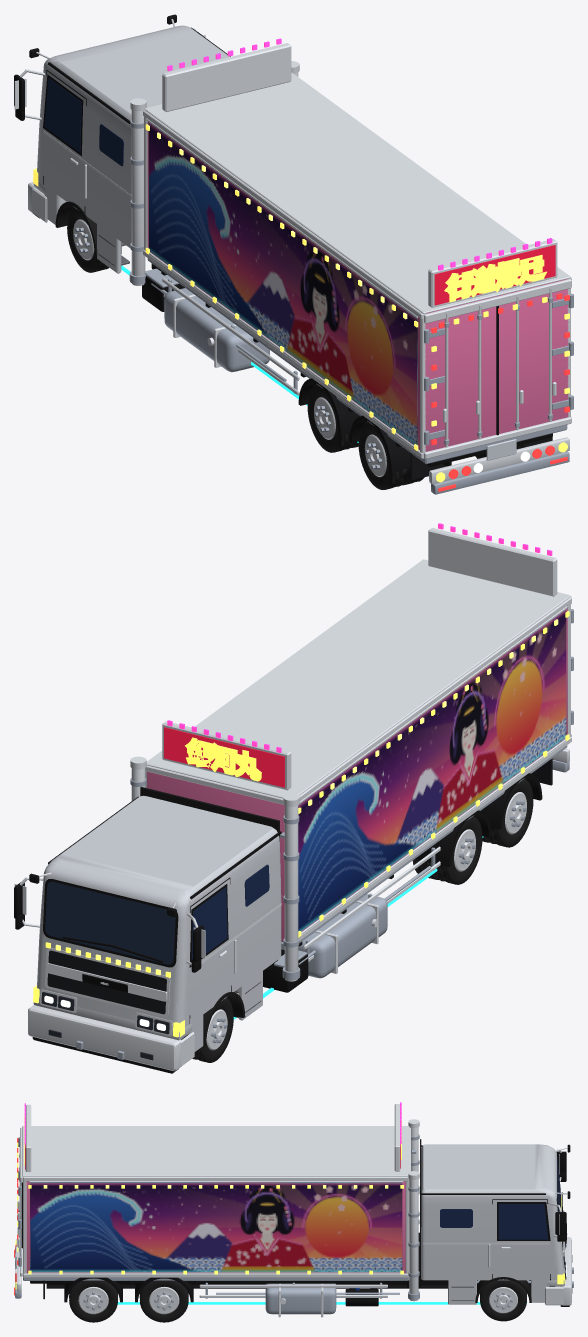
Rendered from dekotora_truck_pinkbox.glb.
3 views of the same model, one above another, from view 1: azimuth 30°, elevation 25°; view 2: azimuth 150°, elevation 25°; view 3: azimuth 270°, elevation 25° (orthographic). The views are drawn at different scales.
Parts seen in each view (by area): view 1: truck_chrome, truck_mural, truck_paint_white_panel, truck_box_pink, truck_steel, truck_plastic_black, truck_lamp_amber, truck_glass, wheel_r_L_1.5_1.06, wheel_r_L_3.0_1.06, truck_andon_panel, wheel_f_L (+3 smaller); view 2: truck_chrome, truck_mural, truck_paint_white_panel, truck_plastic_black, truck_glass_wind, truck_steel, truck_box_pink, truck_vent_slots, truck_lamp_amber, truck_andon_panel, truck_glass, truck_plastic_trim (+5 smaller); view 3: truck_mural, truck_chrome, truck_paint_white_panel, truck_plastic_black, truck_steel, truck_glass, wheel_r_R_3.0_1.06, wheel_r_R_1.5_1.06, wheel_f_R, truck_box_pink, truck_lamp_amber, truck_plastic_trim (+1 smaller).
Boxes of the visible parts, <box> form: truck_chrome: <box>14,19,571,483</box>; truck_mural: <box>149,122,417,445</box>; truck_paint_white_panel: <box>33,25,229,273</box>; truck_box_pink: <box>147,121,568,451</box>; truck_steel: <box>129,119,573,494</box>; truck_plastic_black: <box>14,14,552,472</box>; truck_lamp_amber: <box>33,124,569,482</box>; truck_glass: <box>44,78,123,166</box>; wheel_r_L_1.5_1.06: <box>358,421,408,489</box>; wheel_r_L_3.0_1.06: <box>307,384,354,452</box>; truck_andon_panel: <box>434,245,555,305</box>; wheel_f_L: <box>67,207,109,272</box>; truck_chrome: <box>14,527,571,1071</box>; truck_mural: <box>298,609,566,931</box>; truck_paint_white_panel: <box>33,795,281,1051</box>; truck_plastic_black: <box>14,770,542,1073</box>; truck_glass_wind: <box>45,881,175,964</box>; truck_steel: <box>76,609,573,1059</box>; truck_box_pink: <box>147,608,567,941</box>; truck_vent_slots: <box>47,950,166,1014</box>; truck_lamp_amber: <box>33,611,569,1037</box>; truck_andon_panel: <box>164,727,284,787</box>; truck_glass: <box>191,864,269,959</box>; truck_plastic_trim: <box>140,786,279,1046</box>; truck_mural: <box>30,1182,402,1272</box>; truck_chrome: <box>16,1104,571,1317</box>; truck_paint_white_panel: <box>421,1144,564,1304</box>; truck_plastic_black: <box>21,1144,570,1306</box>; truck_steel: <box>15,1134,573,1314</box>; truck_glass: <box>440,1204,548,1239</box>; wheel_r_R_3.0_1.06: <box>139,1280,188,1322</box>; wheel_r_R_1.5_1.06: <box>69,1280,117,1322</box>; wheel_f_R: <box>480,1280,526,1321</box>; truck_box_pink: <box>26,1181,405,1273</box>; truck_lamp_amber: <box>15,1115,565,1289</box>; truck_plastic_trim: <box>420,1139,531,1302</box>.
Size of the model in its own units: 3.24 by 4.16 by 11.89.
Materials: 23 (7 with a texture image).
